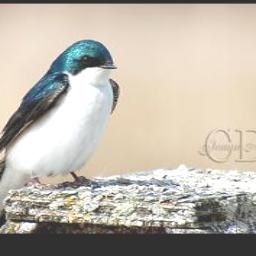Swallow: (0, 39, 120, 232)
